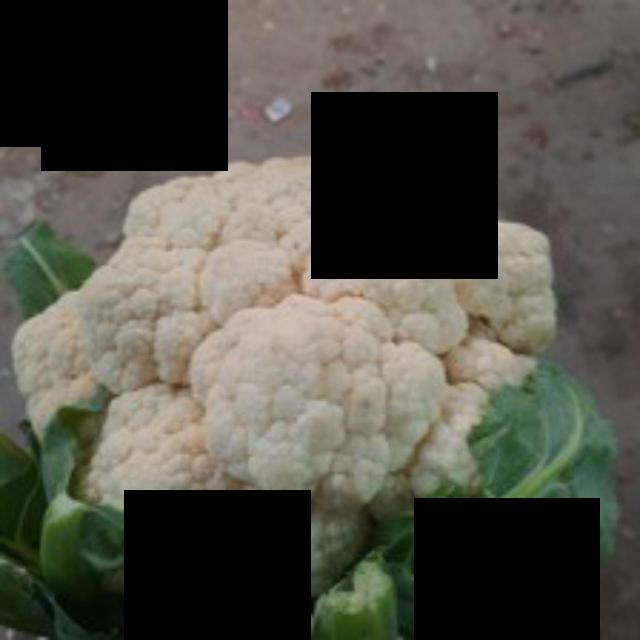cauliflower: (15, 162, 581, 598)
